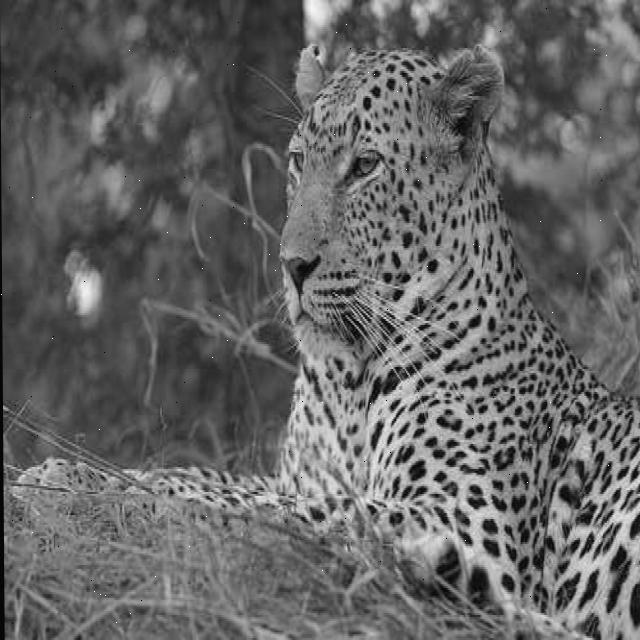Leopard: (7, 39, 640, 636)
